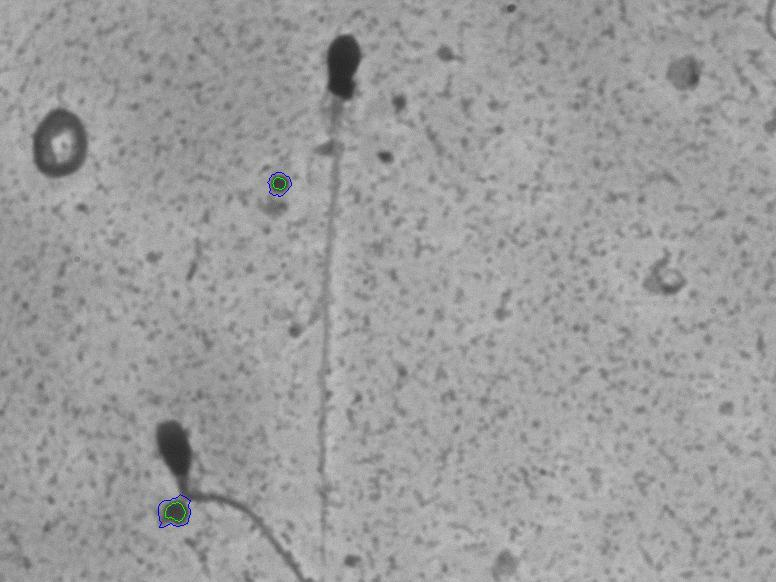Abnormal: (288, 24, 376, 516), (146, 390, 280, 569)
